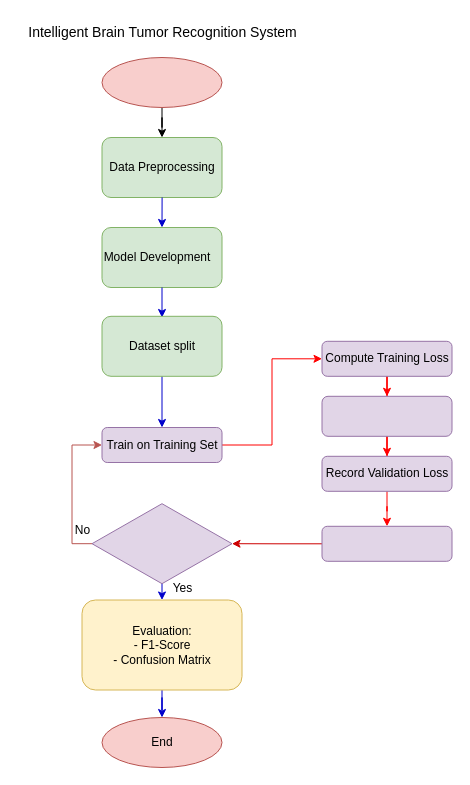
Some shapes in this 470 by 785 pixel diagram are drawn without their labels. The shapes that lost their labels are listed below. From the top down, each one's box as (x1, y1, x2, y2) in pixels, then its label:
(101, 56, 222, 108): Start
(321, 395, 452, 436): Evaluate on Validation
(91, 503, 232, 584): Are the result of the training is good?
(321, 525, 452, 561): Check Early Stopping
